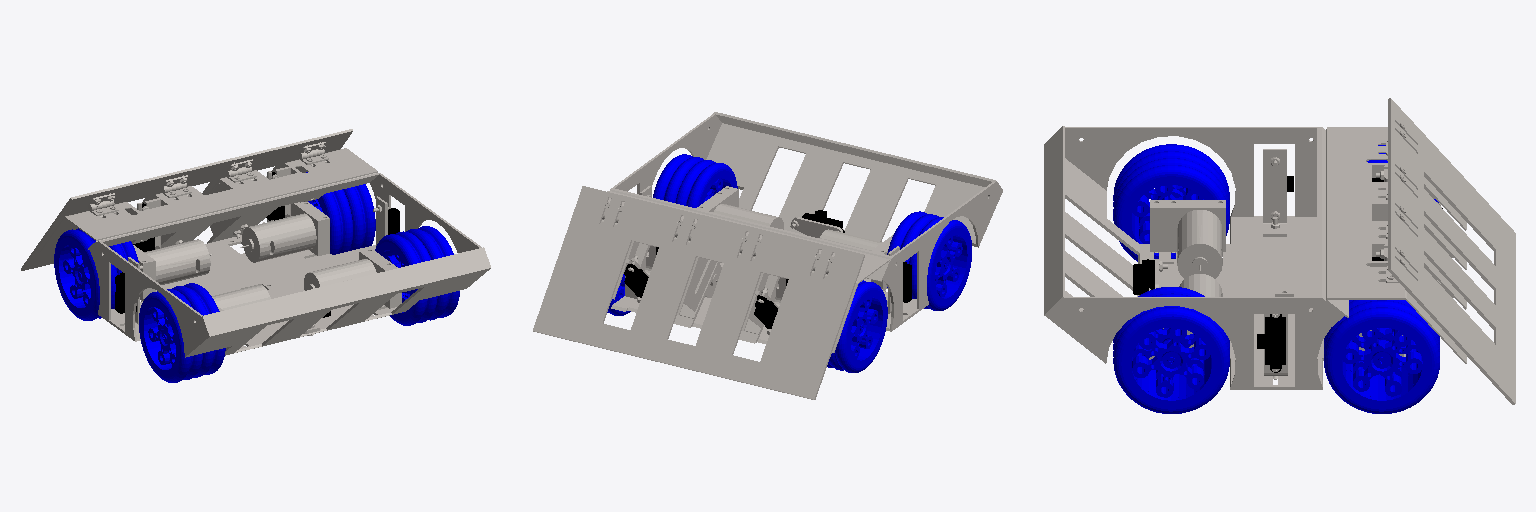
robot.urdf — display_arena:
<?xml version="1.0" encoding="utf-8"?>
<!-- This URDF was automatically created by SolidWorks to URDF Exporter! Originally created by [author] ([email redacted]) 
     Commit Version: 1.6.0-1-g15f4949  Build Version: 1.6.7594.29634
     For more information, please see http://wiki.ros.org/sw_urdf_exporter -->
<robot
  name="display_arena">
  <link
    name="base_link">
    <inertial>
      <origin
        xyz="1.0217E-05 0.025072 -0.016355"
        rpy="0 0 0" />
      <mass
        value="2.6954" />
      <inertia
        ixx="0.0070446"
        ixy="-2.9178E-07"
        ixz="1.5967E-07"
        iyy="0.015528"
        iyz="-0.00099099"
        izz="0.010468" />
    </inertial>
    <visual>
      <origin
        xyz="0 0 0"
        rpy="0 0 0" />
      <geometry>
        <mesh
          filename="package://display_arena/meshes/base_link.STL" />
      </geometry>
      <material
        name="">
        <color
          rgba="0.77647 0.75686 0.73725 1" />
      </material>
    </visual>
    <collision>
      <origin
        xyz="0 0 0"
        rpy="0 0 0" />
      <geometry>
        <mesh
          filename="package://display_arena/meshes/base_link.STL" />
      </geometry>
    </collision>
  </link>
  <link
    name="RF_WheelLink">
    <inertial>
      <origin
        xyz="4.5981E-13 1.9621E-13 0.010198"
        rpy="0 0 0" />
      <mass
        value="0.12747" />
      <inertia
        ixx="5.5576E-05"
        ixy="1.1858E-20"
        ixz="-3.4786E-21"
        iyy="5.5576E-05"
        iyz="-2.8041E-20"
        izz="0.00010367" />
    </inertial>
    <visual>
      <origin
        xyz="0 0 0"
        rpy="0 0 0" />
      <geometry>
        <mesh
          filename="package://display_arena/meshes/RF_WheelLink.STL" />
      </geometry>
      <material
        name="">
        <color
          rgba="0 0 1 1" />
      </material>
    </visual>
    <collision>
      <origin
        xyz="0 0 0"
        rpy="0 0 0" />
      <geometry>
        <mesh
          filename="package://display_arena/meshes/RF_WheelLink.STL" />
      </geometry>
    </collision>
  </link>
  <joint
    name="RF_Wheel"
    type="continuous">
    <origin
      xyz="0.094 0.066353 0.017"
      rpy="1.5708 0.69155 1.5708" />
    <parent
      link="base_link" />
    <child
      link="RF_WheelLink" />
    <axis
      xyz="0 0 0" />
  </joint>
  <link
    name="RB_WheelLink">
    <inertial>
      <origin
        xyz="-0.020198 -3.3936E-13 7.0111E-14"
        rpy="0 0 0" />
      <mass
        value="0.12747" />
      <inertia
        ixx="0.00010367"
        ixy="1.3138E-20"
        ixz="-1.2278E-21"
        iyy="5.5576E-05"
        iyz="3.007E-20"
        izz="5.5576E-05" />
    </inertial>
    <visual>
      <origin
        xyz="0 0 0"
        rpy="0 0 0" />
      <geometry>
        <mesh
          filename="package://display_arena/meshes/RB_WheelLink.STL" />
      </geometry>
      <material
        name="">
        <color
          rgba="0 0 1 1" />
      </material>
    </visual>
    <collision>
      <origin
        xyz="0 0 0"
        rpy="0 0 0" />
      <geometry>
        <mesh
          filename="package://display_arena/meshes/RB_WheelLink.STL" />
      </geometry>
    </collision>
  </link>
  <joint
    name="RB_Wheel"
    type="continuous">
    <origin
      xyz="0.084 -0.063645 0.017"
      rpy="1.6466 0 3.1416" />
    <parent
      link="base_link" />
    <child
      link="RB_WheelLink" />
    <axis
      xyz="1 0 0" />
  </joint>
  <link
    name="LF_WheelLink">
    <inertial>
      <origin
        xyz="-0.020198 -7.1808E-11 2.8662E-12"
        rpy="0 0 0" />
      <mass
        value="0.12747" />
      <inertia
        ixx="0.00010367"
        ixy="1.8817E-20"
        ixz="1.5609E-20"
        iyy="5.5576E-05"
        iyz="-6.7763E-20"
        izz="5.5576E-05" />
    </inertial>
    <visual>
      <origin
        xyz="0 0 0"
        rpy="0 0 0" />
      <geometry>
        <mesh
          filename="package://display_arena/meshes/LF_WheelLink.STL" />
      </geometry>
      <material
        name="">
        <color
          rgba="0 0 1 1" />
      </material>
    </visual>
    <collision>
      <origin
        xyz="0 0 0"
        rpy="0 0 0" />
      <geometry>
        <mesh
          filename="package://display_arena/meshes/LF_WheelLink.STL" />
      </geometry>
    </collision>
  </link>
  <joint
    name="LF_Wheel"
    type="continuous">
    <origin
      xyz="-0.084 0.066353 0.017"
      rpy="0.75862 0 0" />
    <parent
      link="base_link" />
    <child
      link="LF_WheelLink" />
    <axis
      xyz="1 0 0" />
  </joint>
  <link
    name="LB_WheelLink">
    <inertial>
      <origin
        xyz="0 2.0817E-17 -0.0098022"
        rpy="0 0 0" />
      <mass
        value="0.12747" />
      <inertia
        ixx="5.5576E-05"
        ixy="1.0164E-20"
        ixz="-1.8434E-21"
        iyy="5.5576E-05"
        iyz="-1.1872E-20"
        izz="0.00010367" />
    </inertial>
    <visual>
      <origin
        xyz="0 0 0"
        rpy="0 0 0" />
      <geometry>
        <mesh
          filename="package://display_arena/meshes/LB_WheelLink.STL" />
      </geometry>
      <material
        name="">
        <color
          rgba="0 0 1 1" />
      </material>
    </visual>
    <collision>
      <origin
        xyz="0 0 0"
        rpy="0 0 0" />
      <geometry>
        <mesh
          filename="package://display_arena/meshes/LB_WheelLink.STL" />
      </geometry>
    </collision>
  </link>
  <joint
    name="LB_Wheel"
    type="continuous">
    <origin
      xyz="-0.114 -0.063645 0.017"
      rpy="1.5708 0.23741 -1.5708" />
    <parent
      link="base_link" />
    <child
      link="LB_WheelLink" />
    <axis
      xyz="0 0 0" />
  </joint>
  <link
    name="L_Range_Link">
    <inertial>
      <origin
        xyz="-2.0351E-05 -0.00018838 0.0053807"
        rpy="0 0 0" />
      <mass
        value="0.0042661" />
      <inertia
        ixx="1.08E-07"
        ixy="1.6467E-11"
        ixz="6.311E-10"
        iyy="4.0797E-07"
        iyz="-1.0722E-10"
        izz="4.0735E-07" />
    </inertial>
    <visual>
      <origin
        xyz="0 0 0"
        rpy="0 0 0" />
      <geometry>
        <mesh
          filename="package://display_arena/meshes/L_Range_Link.STL" />
      </geometry>
      <material
        name="">
        <color
          rgba="0 0 0 1" />
      </material>
    </visual>
    <collision>
      <origin
        xyz="0 0 0"
        rpy="0 0 0" />
      <geometry>
        <mesh
          filename="package://display_arena/meshes/L_Range_Link.STL" />
      </geometry>
    </collision>
  </link>
  <joint
    name="L_Range"
    type="fixed">
    <origin
      xyz="-0.111 0.0003163 0.028237"
      rpy="3.1416 1.5708 0" />
    <parent
      link="base_link" />
    <child
      link="L_Range_Link" />
    <axis
      xyz="0 0 0" />
  </joint>
  <link
    name="R_Range_Link">
    <inertial>
      <origin
        xyz="-2.0351E-05 -0.00018838 0.0053807"
        rpy="0 0 0" />
      <mass
        value="0.0042661" />
      <inertia
        ixx="1.08E-07"
        ixy="1.6467E-11"
        ixz="6.311E-10"
        iyy="4.0797E-07"
        iyz="-1.0722E-10"
        izz="4.0735E-07" />
    </inertial>
    <visual>
      <origin
        xyz="0 0 0"
        rpy="0 0 0" />
      <geometry>
        <mesh
          filename="package://display_arena/meshes/R_Range_Link.STL" />
      </geometry>
      <material
        name="">
        <color
          rgba="0 0 0 1" />
      </material>
    </visual>
    <collision>
      <origin
        xyz="0 0 0"
        rpy="0 0 0" />
      <geometry>
        <mesh
          filename="package://display_arena/meshes/R_Range_Link.STL" />
      </geometry>
    </collision>
  </link>
  <joint
    name="R_Range"
    type="fixed">
    <origin
      xyz="0.111 0.00064079 0.028237"
      rpy="0 1.5708 0" />
    <parent
      link="base_link" />
    <child
      link="R_Range_Link" />
    <axis
      xyz="0 0 0" />
  </joint>
  <link
    name="B_Range_Link">
    <inertial>
      <origin
        xyz="-2.0351E-05 -0.00018838 0.0053807"
        rpy="0 0 0" />
      <mass
        value="0.0042661" />
      <inertia
        ixx="1.08E-07"
        ixy="1.6467E-11"
        ixz="6.311E-10"
        iyy="4.0797E-07"
        iyz="-1.0722E-10"
        izz="4.0735E-07" />
    </inertial>
    <visual>
      <origin
        xyz="0 0 0"
        rpy="0 0 0" />
      <geometry>
        <mesh
          filename="package://display_arena/meshes/B_Range_Link.STL" />
      </geometry>
      <material
        name="">
        <color
          rgba="0 0 0 1" />
      </material>
    </visual>
    <collision>
      <origin
        xyz="0 0 0"
        rpy="0 0 0" />
      <geometry>
        <mesh
          filename="package://display_arena/meshes/B_Range_Link.STL" />
      </geometry>
    </collision>
  </link>
  <joint
    name="B_Range"
    type="fixed">
    <origin
      xyz="0 -0.074061 0.017"
      rpy="-1.5708 0 -3.1416" />
    <parent
      link="base_link" />
    <child
      link="B_Range_Link" />
    <axis
      xyz="0 0 0" />
  </joint>
  <link
    name="FL_Range_Link">
    <inertial>
      <origin
        xyz="-2.0351E-05 -0.00018838 0.0053807"
        rpy="0 0 0" />
      <mass
        value="0.0042661" />
      <inertia
        ixx="1.08E-07"
        ixy="1.6467E-11"
        ixz="6.311E-10"
        iyy="4.0797E-07"
        iyz="-1.0722E-10"
        izz="4.0735E-07" />
    </inertial>
    <visual>
      <origin
        xyz="0 0 0"
        rpy="0 0 0" />
      <geometry>
        <mesh
          filename="package://display_arena/meshes/FL_Range_Link.STL" />
      </geometry>
      <material
        name="">
        <color
          rgba="0 0 0 1" />
      </material>
    </visual>
    <collision>
      <origin
        xyz="0 0 0"
        rpy="0 0 0" />
      <geometry>
        <mesh
          filename="package://display_arena/meshes/FL_Range_Link.STL" />
      </geometry>
    </collision>
  </link>
  <joint
    name="FL_Range"
    type="fixed">
    <origin
      xyz="-0.061592 0.070694 0.0405"
      rpy="1.5708 1.5708 0" />
    <parent
      link="base_link" />
    <child
      link="FL_Range_Link" />
    <axis
      xyz="0 0 0" />
  </joint>
  <link
    name="FR_Range_Link">
    <inertial>
      <origin
        xyz="-2.0351E-05 -0.00018838 0.0053807"
        rpy="0 0 0" />
      <mass
        value="0.0042661" />
      <inertia
        ixx="1.08E-07"
        ixy="1.6467E-11"
        ixz="6.311E-10"
        iyy="4.0797E-07"
        iyz="-1.0722E-10"
        izz="4.0735E-07" />
    </inertial>
    <visual>
      <origin
        xyz="0 0 0"
        rpy="0 0 0" />
      <geometry>
        <mesh
          filename="package://display_arena/meshes/FR_Range_Link.STL" />
      </geometry>
      <material
        name="">
        <color
          rgba="0 0 0 1" />
      </material>
    </visual>
    <collision>
      <origin
        xyz="0 0 0"
        rpy="0 0 0" />
      <geometry>
        <mesh
          filename="package://display_arena/meshes/FR_Range_Link.STL" />
      </geometry>
    </collision>
  </link>
  <joint
    name="FR_Range"
    type="fixed">
    <origin
      xyz="0.0535 0.070694 0.0405"
      rpy="1.5708 1.5708 0" />
    <parent
      link="base_link" />
    <child
      link="FR_Range_Link" />
    <axis
      xyz="0 0 0" />
  </joint>
  <link
    name="DL_Range_Link">
    <inertial>
      <origin
        xyz="-2.0351E-05 -0.00018838 0.0053807"
        rpy="0 0 0" />
      <mass
        value="0.0042661" />
      <inertia
        ixx="1.08E-07"
        ixy="1.6467E-11"
        ixz="6.311E-10"
        iyy="4.0797E-07"
        iyz="-1.0722E-10"
        izz="4.0735E-07" />
    </inertial>
    <visual>
      <origin
        xyz="0 0 0"
        rpy="0 0 0" />
      <geometry>
        <mesh
          filename="package://display_arena/meshes/DL_Range_Link.STL" />
      </geometry>
      <material
        name="">
        <color
          rgba="0 0 0 1" />
      </material>
    </visual>
    <collision>
      <origin
        xyz="0 0 0"
        rpy="0 0 0" />
      <geometry>
        <mesh
          filename="package://display_arena/meshes/DL_Range_Link.STL" />
      </geometry>
    </collision>
  </link>
  <joint
    name="DL_Range"
    type="fixed">
    <origin
      xyz="-0.050592 0.086604 0.02691"
      rpy="3.1416 -0.7854 1.5708" />
    <parent
      link="base_link" />
    <child
      link="DL_Range_Link" />
    <axis
      xyz="0 0 0" />
  </joint>
  <link
    name="DR_Range_Link">
    <inertial>
      <origin
        xyz="0 0 0"
        rpy="0 0 0" />
      <mass
        value="0" />
      <inertia
        ixx="0"
        ixy="0"
        ixz="0"
        iyy="0"
        iyz="0"
        izz="0" />
    </inertial>
    <visual>
      <origin
        xyz="0 0 0"
        rpy="0 0 0" />
      <geometry>
        <mesh
          filename="package://display_arena/meshes/DR_Range_Link.STL" />
      </geometry>
      <material
        name="">
        <color
          rgba="0 0 0 1" />
      </material>
    </visual>
    <collision>
      <origin
        xyz="0 0 0"
        rpy="0 0 0" />
      <geometry>
        <mesh
          filename="package://display_arena/meshes/DR_Range_Link.STL" />
      </geometry>
    </collision>
  </link>
  <joint
    name="DR_Range"
    type="fixed">
    <origin
      xyz="0.0645 0.086604 0.02691"
      rpy="-3.1416 -0.7854 1.5708" />
    <parent
      link="base_link" />
    <child
      link="DR_Range_Link" />
    <axis
      xyz="0 0 0" />
  </joint>
</robot>

--- Facts derived from the render (not from the file) ---
3 views of the same robot in one strip: view 1: azimuth 30°, elevation 25°; view 2: azimuth 150°, elevation 25°; view 3: azimuth 270°, elevation 25° (orthographic).
Model display_arena with 12 links and 11 joints (4 continuous, 7 fixed), rooted at base_link, posed all joints at 0.
Links seen in each view (by area): view 1: base_link, LB_WheelLink, LF_WheelLink, RB_WheelLink, RF_WheelLink; view 2: base_link, LB_WheelLink, LF_WheelLink, RB_WheelLink; view 3: base_link, RF_WheelLink, RB_WheelLink, LB_WheelLink, R_Range_Link, B_Range_Link.
Link boxes in pixels (box(x1,y1,x2,y2)): base_link: box(21, 129, 490, 357); LB_WheelLink: box(139, 283, 225, 382); LF_WheelLink: box(54, 228, 138, 320); RB_WheelLink: box(375, 226, 459, 325); RF_WheelLink: box(306, 172, 375, 254); base_link: box(533, 112, 1002, 399); LB_WheelLink: box(887, 211, 971, 310); LF_WheelLink: box(827, 280, 887, 372); RB_WheelLink: box(653, 154, 737, 207); base_link: box(1044, 98, 1515, 404); RF_WheelLink: box(1324, 300, 1439, 413); RB_WheelLink: box(1113, 287, 1229, 413); LB_WheelLink: box(1113, 144, 1229, 261); R_Range_Link: box(1257, 314, 1285, 372); B_Range_Link: box(1133, 259, 1154, 294).
Size in the robot's own frame: 0.25 by 0.2908 by 0.1013 metres.
12 mesh visuals loaded from 12 distinct referenced files (12 binary STL).